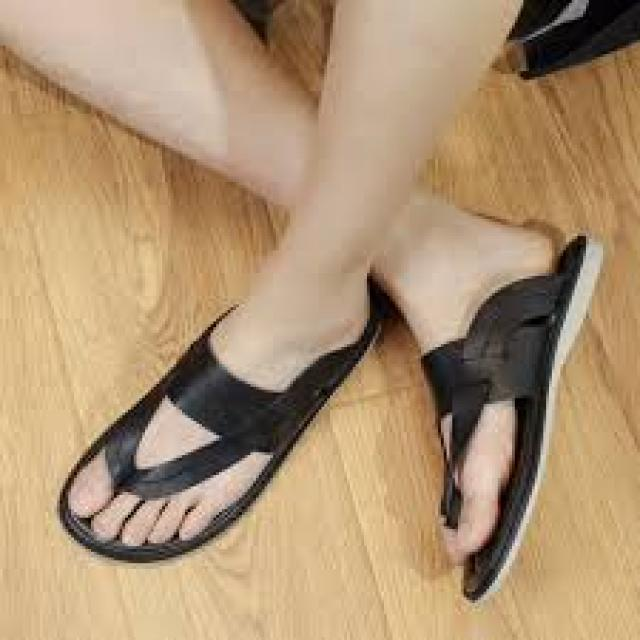Sandals: (54, 268, 372, 576), (414, 202, 599, 602)
